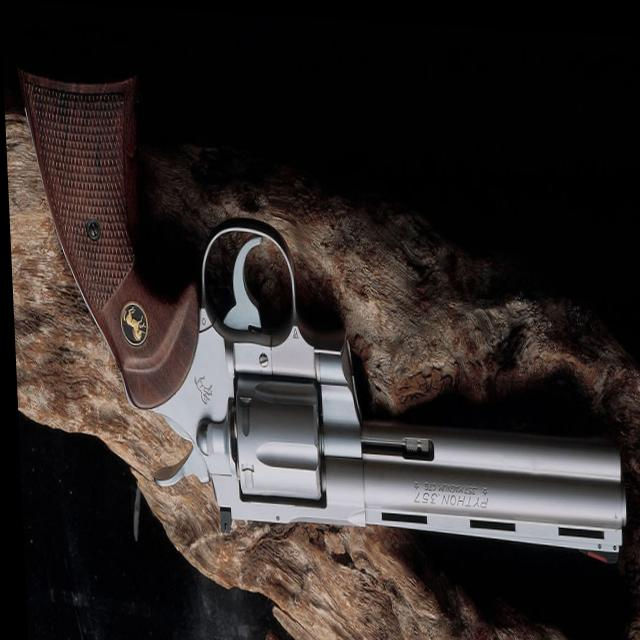handgun: (15, 62, 627, 564)
